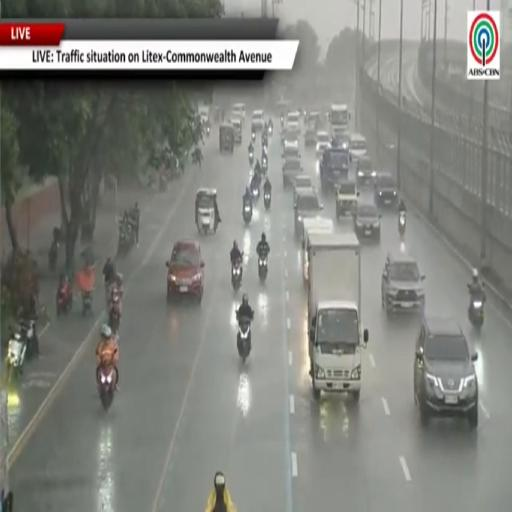car: (414, 316, 478, 429), (382, 251, 425, 314), (166, 240, 204, 302), (295, 189, 323, 237), (354, 202, 380, 241), (336, 181, 359, 219), (375, 173, 398, 206), (294, 173, 314, 205), (356, 156, 377, 186), (283, 157, 302, 187), (349, 134, 367, 161), (331, 127, 350, 148), (316, 131, 330, 157), (332, 132, 350, 150), (282, 141, 300, 159), (282, 128, 299, 147), (230, 118, 242, 143), (304, 124, 317, 147), (306, 111, 321, 130), (252, 110, 264, 132), (232, 103, 245, 123), (286, 122, 300, 137), (286, 111, 300, 123)
motorcycle: (6, 319, 38, 382), (6, 333, 27, 383), (98, 364, 116, 410), (19, 319, 38, 358), (468, 285, 484, 328), (237, 318, 251, 363), (56, 283, 73, 316), (118, 222, 134, 254), (108, 296, 120, 332), (48, 239, 59, 273), (81, 290, 93, 317), (232, 262, 242, 291), (259, 255, 267, 281), (243, 203, 252, 225), (399, 212, 406, 236), (261, 155, 268, 175), (159, 174, 167, 191), (251, 184, 259, 199), (264, 191, 270, 210), (248, 152, 254, 168), (268, 124, 273, 135), (280, 116, 284, 127), (206, 125, 210, 136), (252, 132, 255, 142)
truck: (308, 233, 368, 401), (301, 217, 333, 283), (320, 141, 350, 193)
